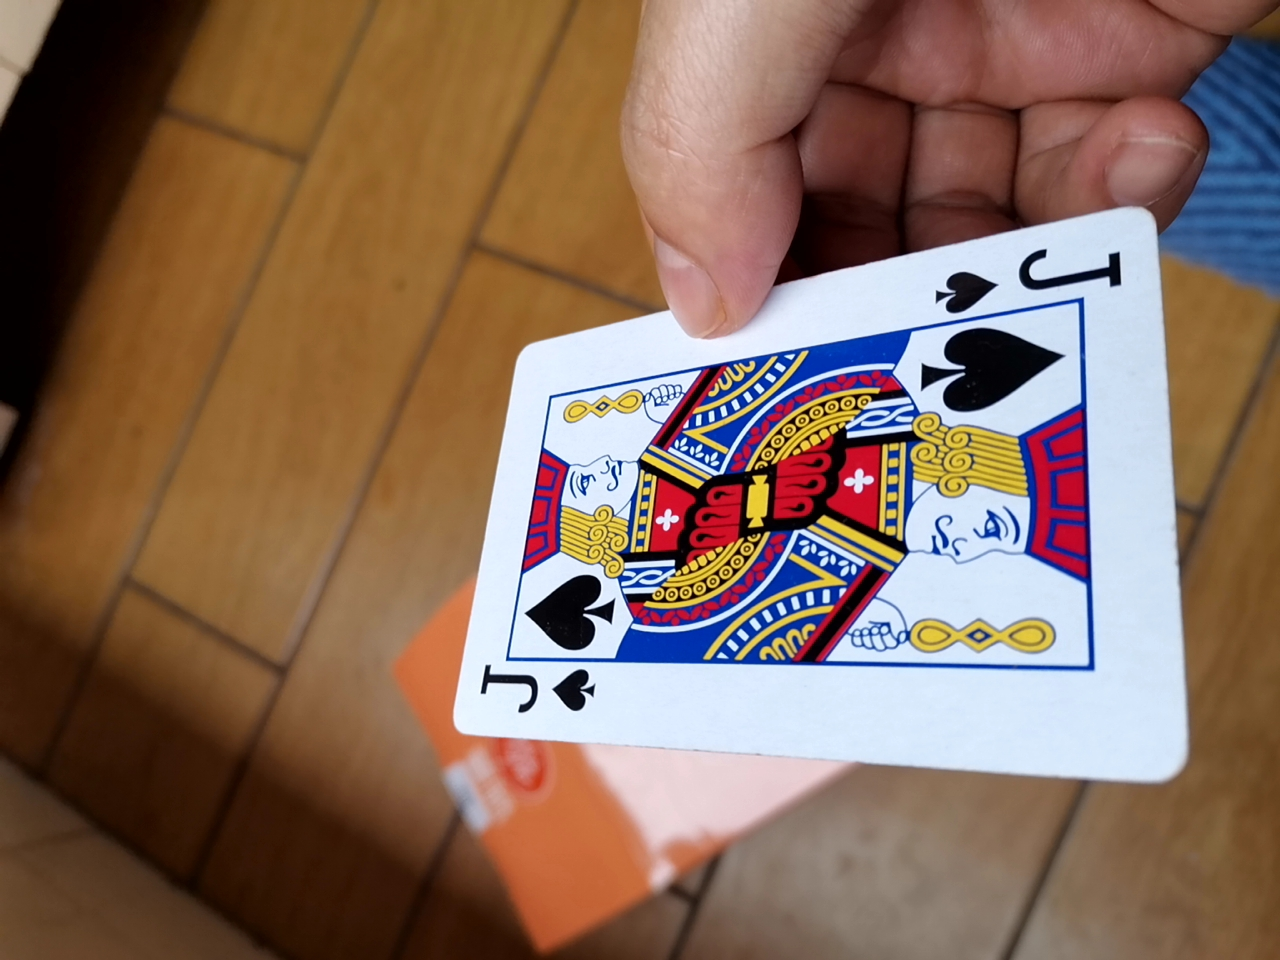ht j: (426, 213, 1178, 790)
